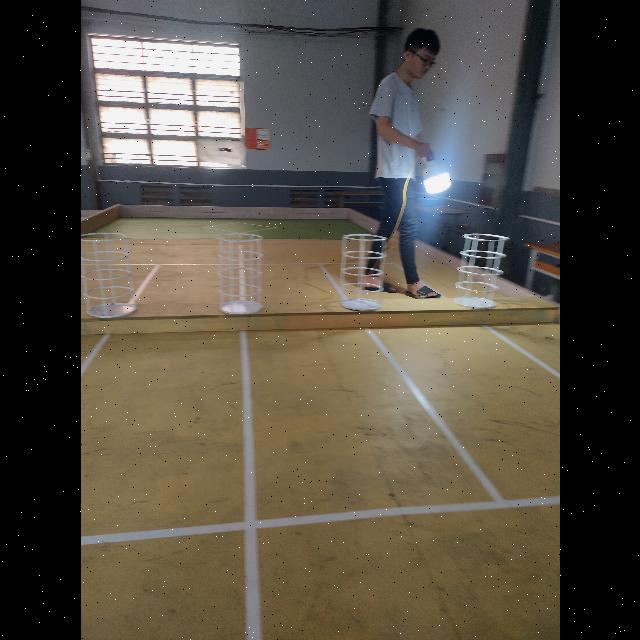S: (80, 230, 137, 323), (450, 231, 512, 312), (214, 230, 267, 319), (336, 231, 388, 313)
